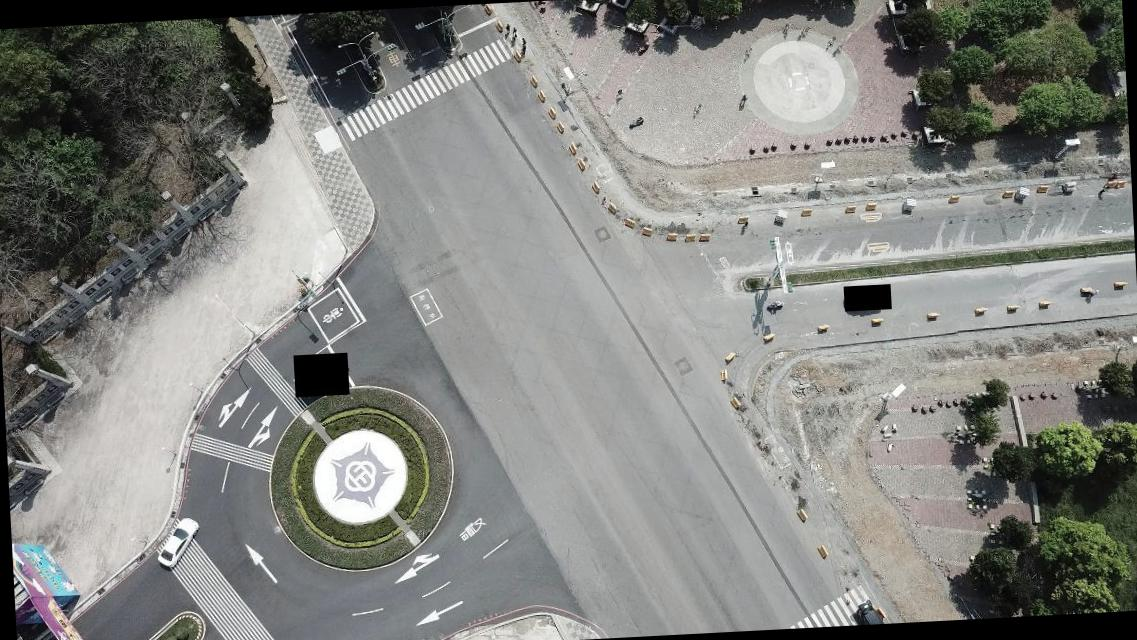vehicle: (155, 518, 200, 568), (852, 596, 888, 624)
